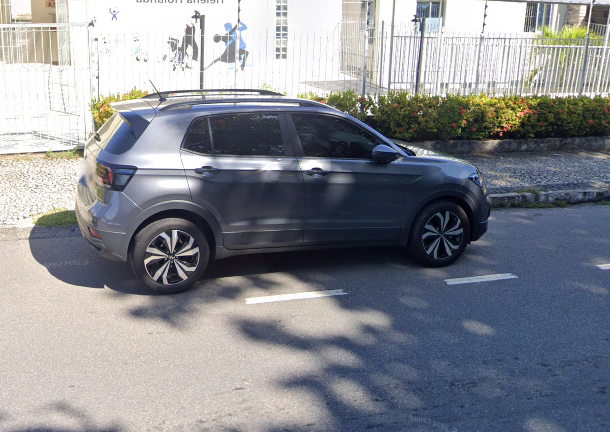car: (72, 77, 493, 297)
